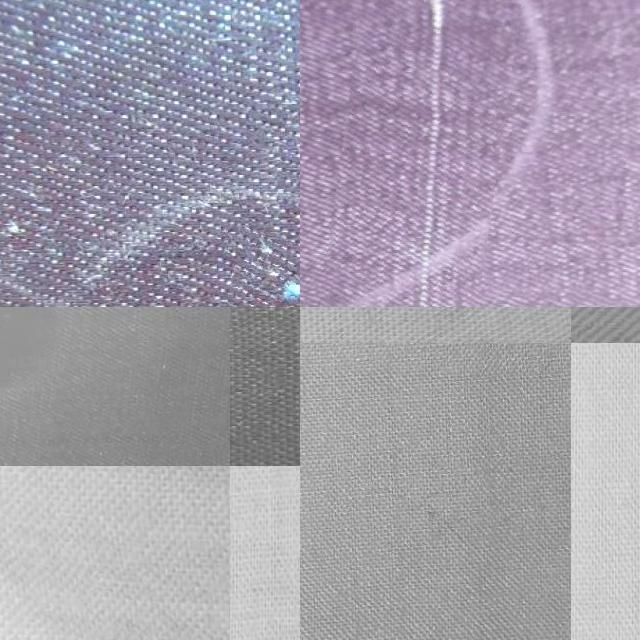Thread_other: (300, 0, 499, 307), (226, 231, 300, 307)
